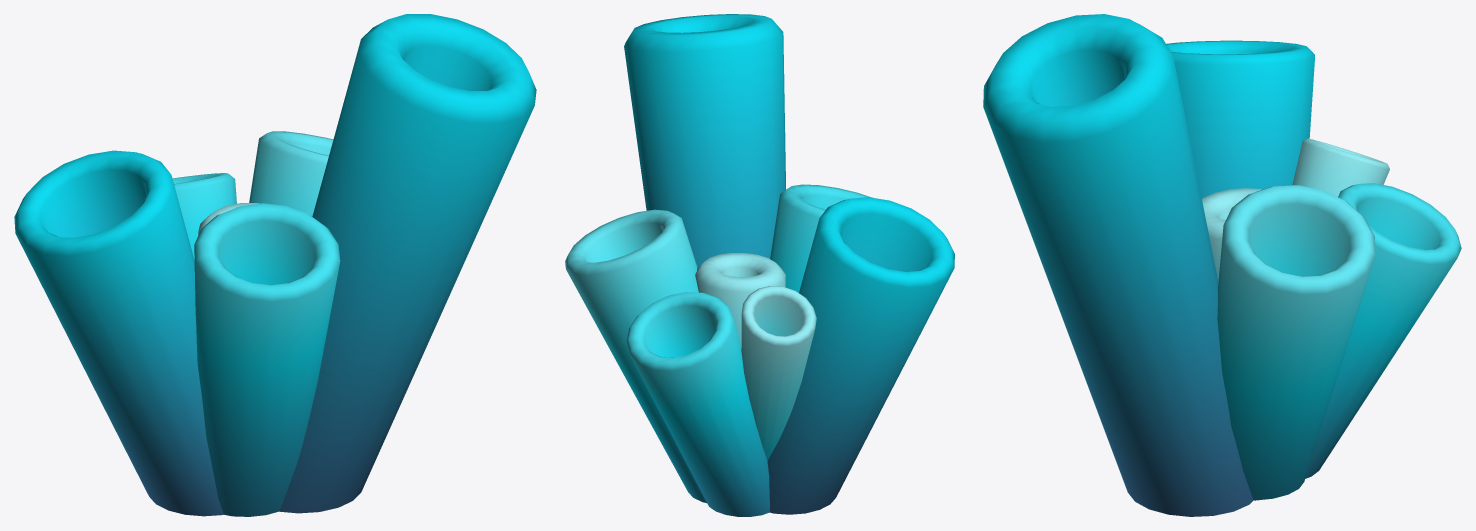
The model's file is Coral_Blue_02.fbx.
3 renders of one model, left to right at view 1: azimuth 30°, elevation 25°; view 2: azimuth 150°, elevation 25°; view 3: azimuth 270°, elevation 25°, orthographic. The views are drawn at different scales.
Parts seen in each view (by area): view 1: Coral_Blue_02; view 2: Coral_Blue_02; view 3: Coral_Blue_02.
Boxes of the visible parts, left/top/right/bottom form: Coral_Blue_02: left=14, top=14, right=536, bottom=516; Coral_Blue_02: left=565, top=14, right=954, bottom=516; Coral_Blue_02: left=983, top=14, right=1461, bottom=516.
Size of the model in its own units: 64.49 by 67.06 by 58.89.
